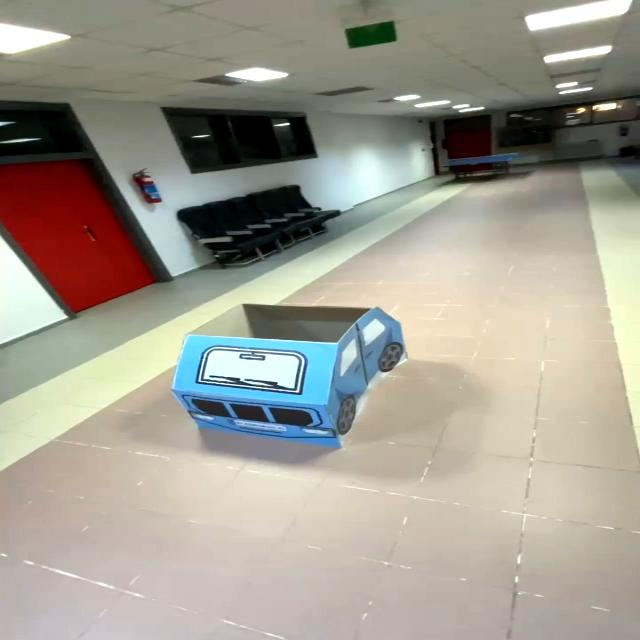blue_car: (143, 289, 440, 465)
